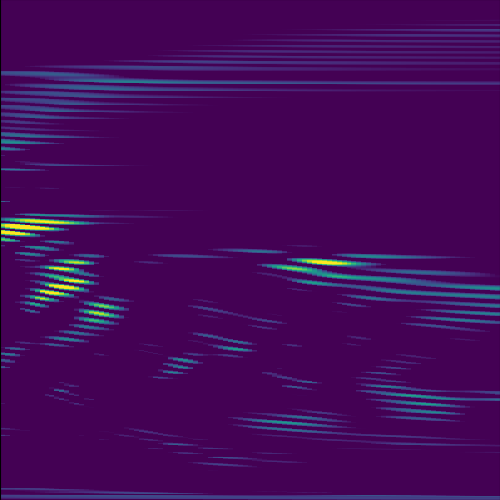semblance: (19, 254, 108, 314), (1, 213, 102, 246), (69, 295, 129, 341)
